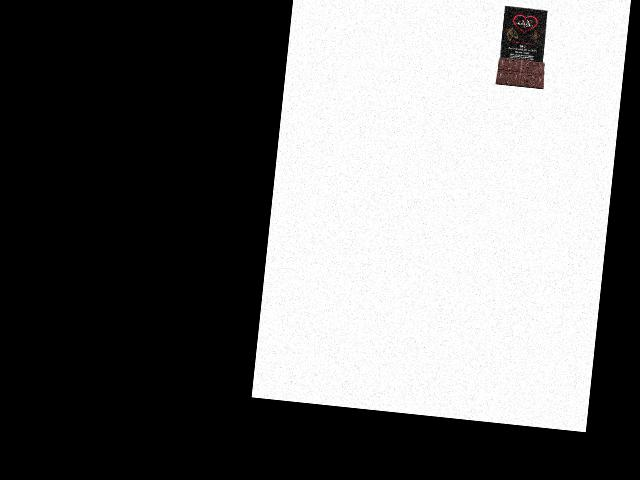chocolate: (493, 5, 555, 92)
